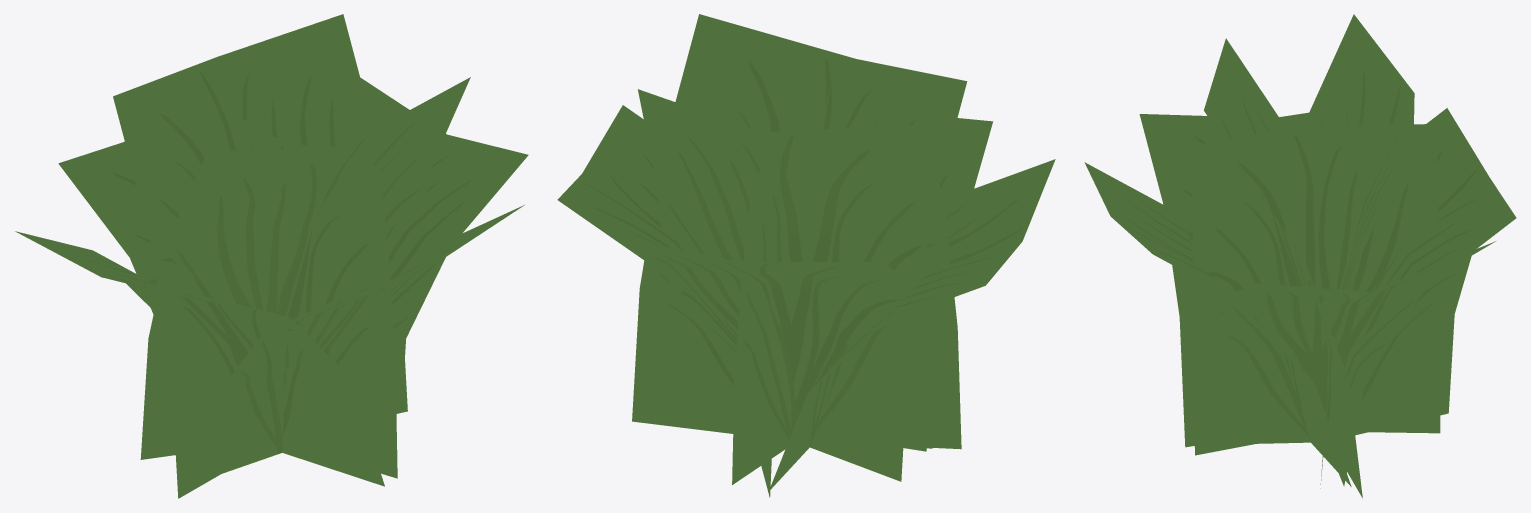
File: MEADOW_SM_Grass_02_03.gltf
The picture shows the model from 3 angles, left to right: view 1: azimuth 30°, elevation 25°; view 2: azimuth 150°, elevation 25°; view 3: azimuth 270°, elevation 25°; orthographic projection. The views are drawn at different scales.
Parts seen in each view (by area): view 1: SM_Grass_02_03_LOD0; view 2: SM_Grass_02_03_LOD0; view 3: SM_Grass_02_03_LOD0.
Part boxes in pixels (x1,y1,x2,y2): SM_Grass_02_03_LOD0: [15, 14, 528, 498]; SM_Grass_02_03_LOD0: [557, 14, 1055, 497]; SM_Grass_02_03_LOD0: [1084, 14, 1516, 498].
Size of the model in its own units: 0.7298 by 0.5841 by 0.6555.
1 material, 1 textured.
